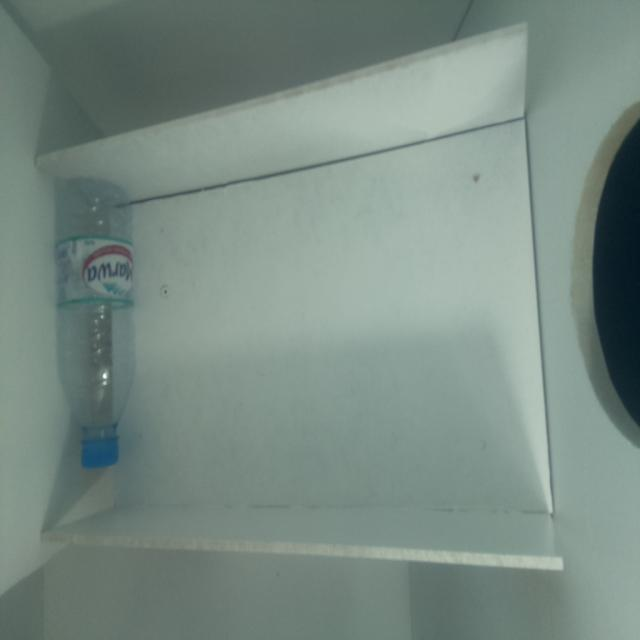plasticbottle: (56, 163, 140, 479)
plasticbottlecap: (68, 438, 131, 476)
